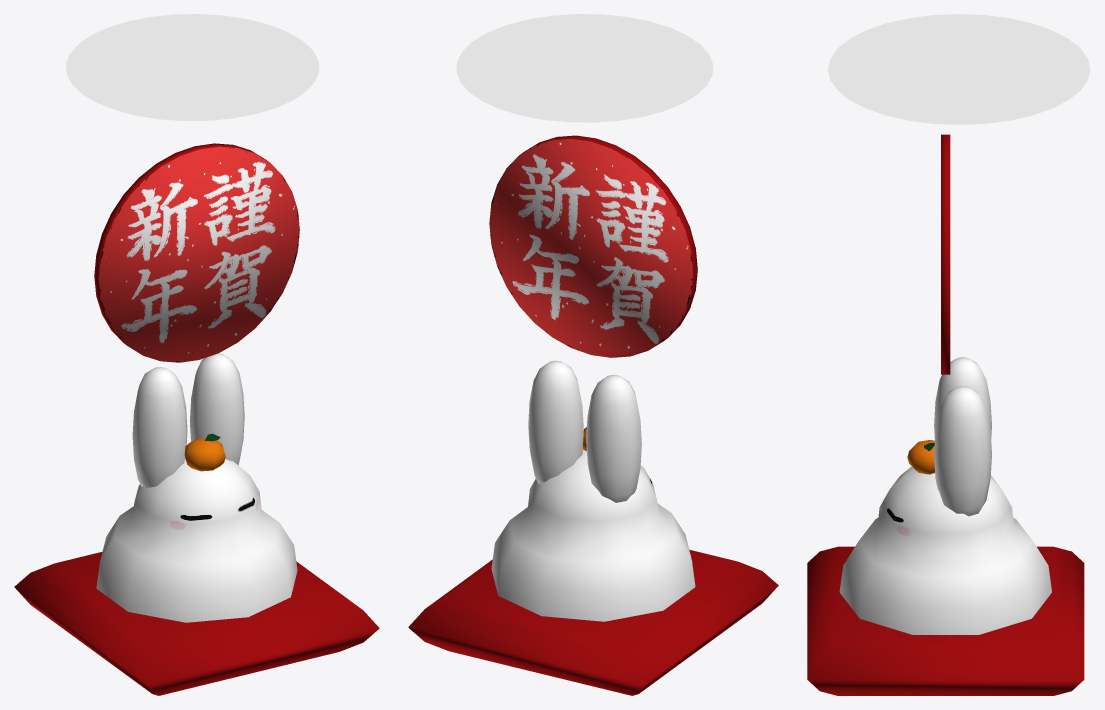
Rendered from mikan_notame.glb.
3 views of the same model, side by side, from view 1: azimuth 30°, elevation 25°; view 2: azimuth 150°, elevation 25°; view 3: azimuth 270°, elevation 25° (orthographic). The views are drawn at different scales.
Parts seen in each view (by area): view 1: Circle.001, Circle.004, Circle, emitter, Circle.005, Circle.006; view 2: Circle.001, Circle, Circle.004, emitter, Circle.005; view 3: Circle, Circle.004, emitter, Circle.005, Circle.001, Circle.006.
Boxes of the visible parts, <box> form: Circle.001: <box>94,143,299,362</box>; Circle.004: <box>96,459,297,622</box>; Circle: <box>14,552,379,695</box>; emitter: <box>66,14,319,120</box>; Circle.005: <box>132,353,244,488</box>; Circle.006: <box>184,438,225,471</box>; Circle.001: <box>489,135,697,357</box>; Circle: <box>408,549,778,695</box>; Circle.004: <box>491,449,695,621</box>; emitter: <box>456,14,713,122</box>; Circle.005: <box>528,360,641,502</box>; Circle: <box>807,546,1084,695</box>; Circle.004: <box>839,466,1051,634</box>; emitter: <box>828,14,1090,124</box>; Circle.005: <box>934,357,991,516</box>; Circle.001: <box>941,134,950,374</box>; Circle.006: <box>907,440,934,474</box>.
Size of the model in its own units: 228 by 529 by 233.
7 materials, 2 textured.
